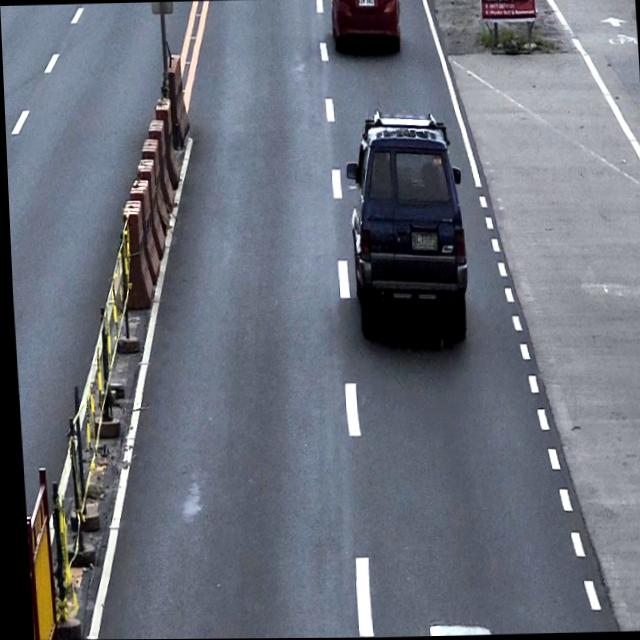Car: (340, 107, 469, 344), (329, 0, 401, 53)
License-Plate: (408, 230, 435, 253), (357, 0, 374, 6)
